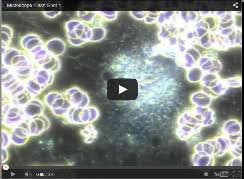Malaria: (1, 23, 64, 92), (1, 99, 46, 145), (45, 88, 101, 123), (175, 92, 215, 140), (181, 49, 227, 90), (195, 10, 242, 48), (64, 19, 105, 47), (190, 139, 227, 165)
